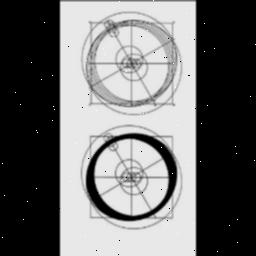o: (83, 130, 181, 224)
